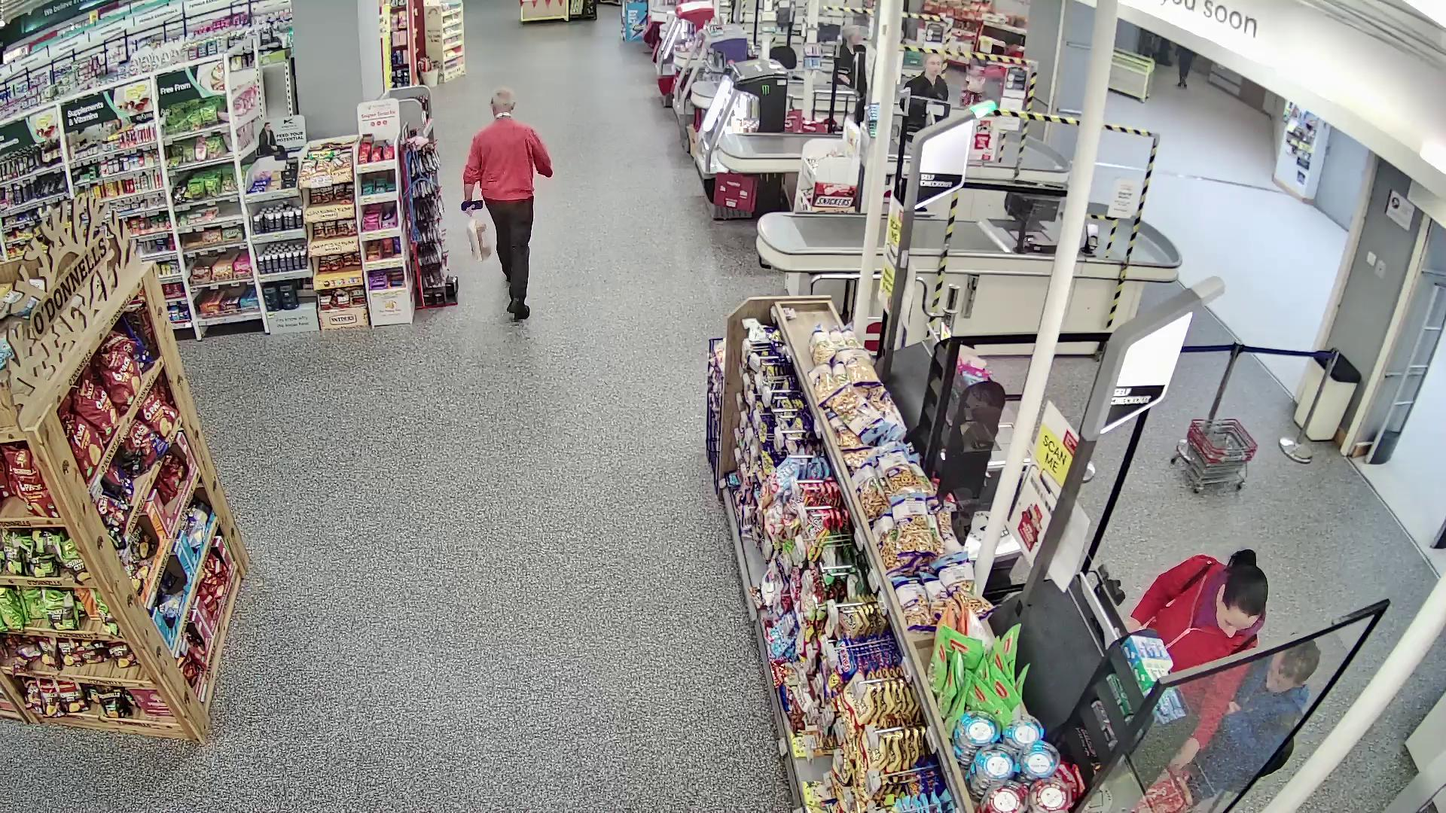carrying-item: (464, 218, 492, 262)
person: (462, 88, 553, 319)
person-with-carrying-item: (462, 88, 553, 320)
